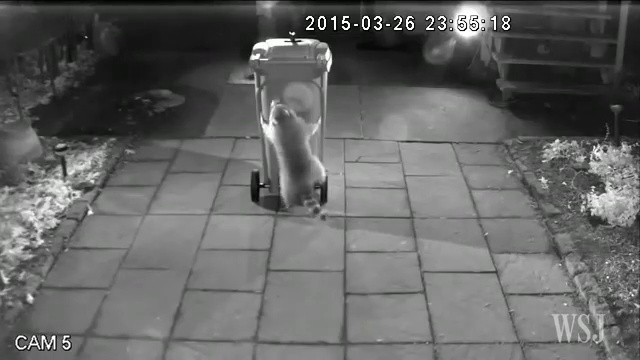raccoon: (254, 96, 336, 224)
